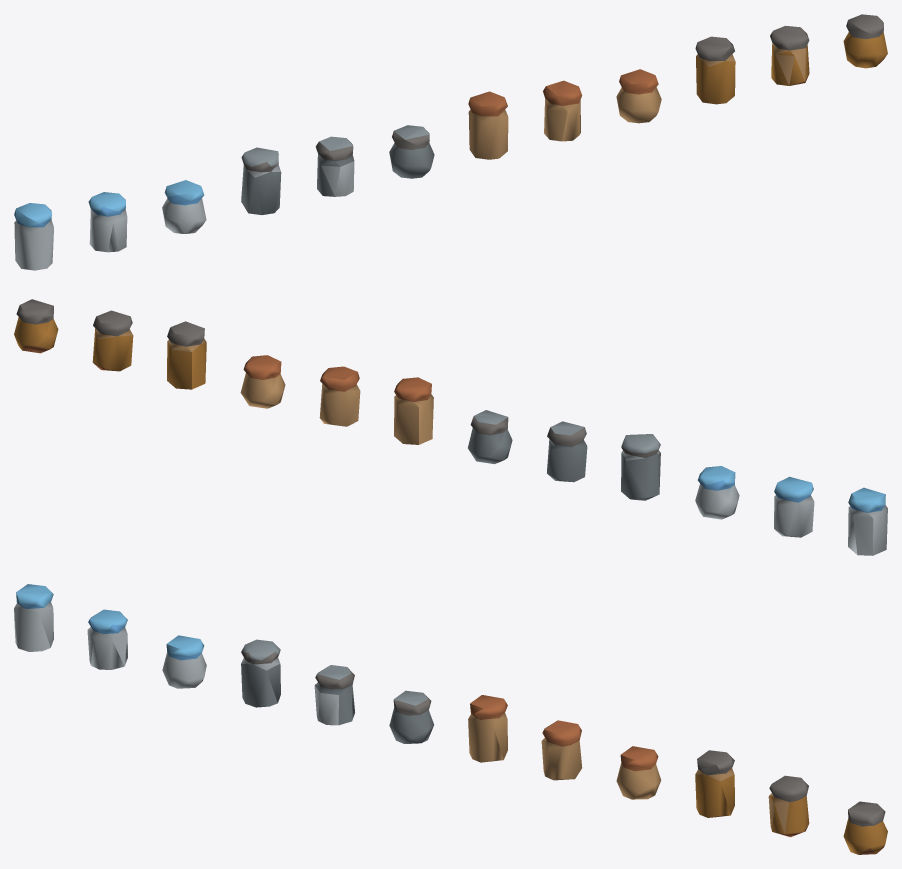
The model's file is jars.glb.
3 views of the same model, one above another, from view 1: azimuth 30°, elevation 25°; view 2: azimuth 150°, elevation 25°; view 3: azimuth 330°, elevation 25° (orthographic).
Parts seen in each view (by area): view 1: jars; view 2: jars; view 3: jars.
Boxes of the visible parts, box(x1,y1,x2,y2) form: jars: box(14, 14, 887, 270); jars: box(14, 299, 887, 555); jars: box(14, 584, 887, 854).
Size of the model in its own units: 2.01 by 0.1203 by 0.0909.
